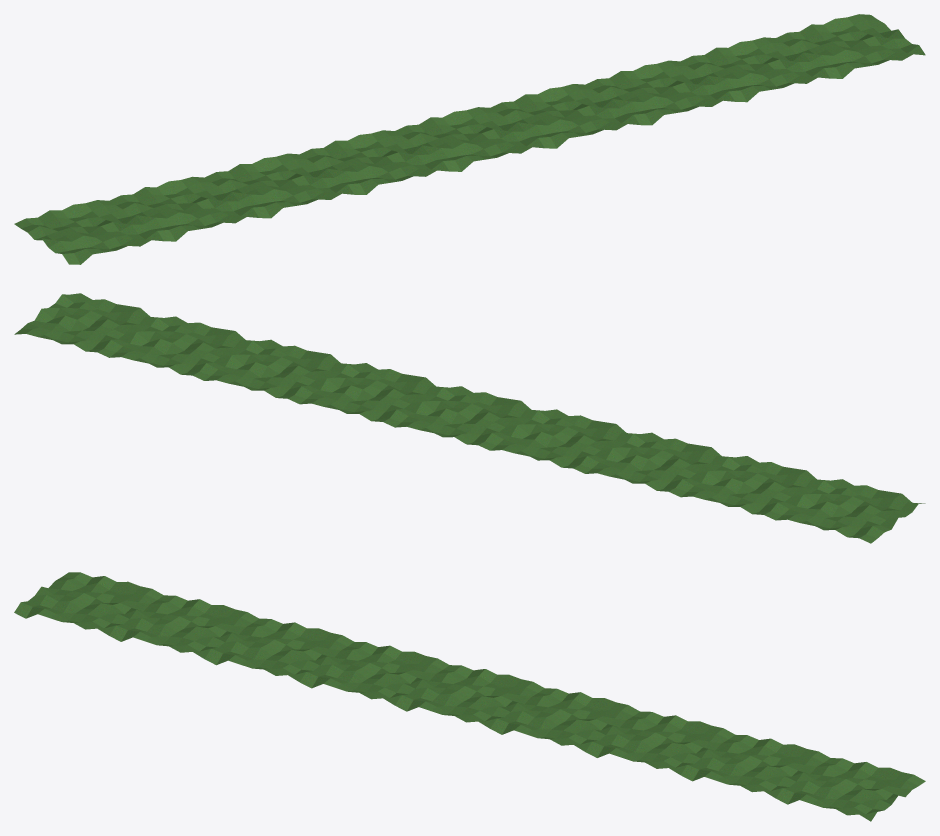
The model's file is terrain.glb.
3 views of the same model, one above another, from view 1: azimuth 30°, elevation 25°; view 2: azimuth 150°, elevation 25°; view 3: azimuth 330°, elevation 25° (orthographic).
Parts seen in each view (by area): view 1: Plane; view 2: Plane; view 3: Plane.
Boxes of the visible parts, bbox=[...] form: Plane: bbox=[14, 14, 925, 264]; Plane: bbox=[14, 293, 925, 543]; Plane: bbox=[14, 572, 925, 821].
Size of the model in its own units: 1799 by 18.64 by 200.
1 material, 1 textured.
